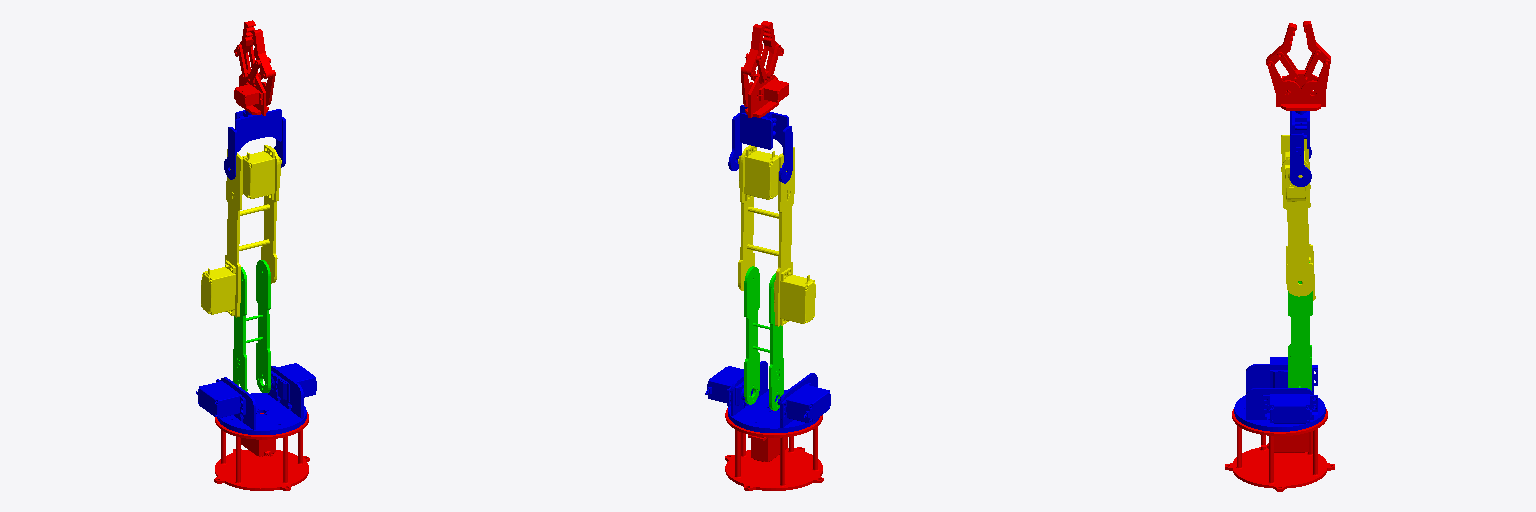
URDF robot description (Seguidor_linea_robot):
<?xml version="1.0" encoding="utf-8"?>
<!-- Este URDF fue creado automáticamente por SolidWorks para el exportador URDF.
     Originalmente creado por Stephen Brawner (brawner@gmail.com)
     Versión de commit: 1.5.1-0-g916b5db  Versión de compilación: 1.5.7152.31018
     Para más información, visita: http://wiki.ros.org/sw_urdf_exporter -->
<robot name="Seguidor_linea_robot">
    <!-- Elemento raíz que define el robot, nombrado "Seguidor_linea_robot" -->

    <link name="world"/>
    <!-- Define el link del mundo, que sirve como referencia global para el robot -->

    <link name="base_link">
        <!-- Link principal del robot -->
        <visual>
            <geometry>
                <mesh filename="package://modelo_robot/meshes/Ensamble_1.stl"/>
                <!-- Carga un modelo 3D del link desde un archivo STL -->
            </geometry>
            <material name="">
                <color rgba="1 0 0 1" />
                <!-- Define el color del link como rojo, opaco -->
            </material>
        </visual> 
    </link>

    <link name="Link_1">
        <!-- Primer link del robot -->
        <visual>
            <geometry>
                <mesh filename="package://modelo_robot/meshes/Ensamble_2.stl"/>
                <!-- Carga el modelo 3D del Link_1 desde un archivo STL -->
            </geometry>
            <material name="">
                <color rgba="0 0 1 1" />
                <!-- Define el color del link como azul, opaco -->
            </material>
        </visual> 
        <collision>
            <geometry>
                <mesh filename="package://modelo_robot/meshes/Ensamble_2.stl"/>
                <!-- Define la geometría para la colisión usando el mismo modelo -->
            </geometry>
        </collision>
    </link>

    <link name="Link_2">
        <!-- Segundo link del robot -->
        <visual>
            <geometry>
                <mesh filename="package://modelo_robot/meshes/Ensamble_3.stl"/>
                <!-- Carga el modelo 3D del Link_2 desde un archivo STL -->
            </geometry>
            <material name="">
                <color rgba="0 1 0 0.5" />
                <!-- Define el color del link como verde, semi-transparente -->
            </material>
        </visual>
        <collision>
            <geometry>
                <mesh filename="package://modelo_robot/meshes/Ensamble_3.stl"/>
                <!-- Define la geometría para la colisión usando el mismo modelo -->
            </geometry>
        </collision>
    </link>

    <link name="Link_3">
        <!-- Tercer link del robot -->
        <visual>
            <geometry>
                <mesh filename="package://modelo_robot/meshes/Ensamble_4.stl"/>
                <!-- Carga el modelo 3D del Link_3 desde un archivo STL -->
            </geometry>
            <material name="">
                <color rgba="1 1 0 0.5" />
                <!-- Define el color del link como verde, semi-transparente -->
            </material>
        </visual>
        <collision>
            <geometry>
                <mesh filename="package://modelo_robot/meshes/Ensamble_4.stl"/>
                <!-- Define la geometría para la colisión usando el mismo modelo -->
            </geometry>
        </collision>
    </link>

    <link name="Link_4">
            <!-- Cuarto link del robot -->
        <visual>
            <geometry>
                <mesh filename="package://modelo_robot/meshes/Ensamble_5.stl"/>
                <!-- Carga el modelo 3D del Link_4 desde un archivo STL -->
            </geometry>
            <material name="">
                <color rgba="0 0 1 1" />
                <!-- Define el color del link como verde, semi-transparente -->
            </material>
        </visual>
        <collision>
            <geometry>
                <mesh filename="package://modelo_robot/meshes/Ensamble_6_Pinza.stl"/>
                <!-- Define la geometría para la colisión usando el mismo modelo -->
            </geometry>
        </collision>
    </link>

        <link name="Gripper">
            <!-- Cuarto link del robot -->
        <visual>
            <geometry>
                <mesh filename="package://modelo_robot/meshes/Ensamble_6_Pinza.stl"/>
                <!-- Carga el modelo 3D del Link_4 desde un archivo STL -->
            </geometry>
            <material name="">
                <color rgba="1 0 0 1" />
                <!-- Define el color del link como rojo, opaco -->
            </material>
        </visual>
        <collision>
            <geometry>
                <mesh filename="package://modelo_robot/meshes/Ensamble_5.stl"/>
                <!-- Define la geometría para la colisión usando el mismo modelo -->
            </geometry>
        </collision>
    </link>

    <joint name="fixed" type="fixed">
        <!-- Joint que conecta el mundo con el base_link, sin movimiento -->
        <parent link="world"/>
        <child link="base_link"/>
        <origin xyz="0 0 -20" rpy="0 0 0"/>
        <!-- Define la posición del joint en coordenadas (x, y, z) y orientación (roll, pitch, yaw) -->
        <axis xyz="0 0 1" />
        <!-- El eje de rotación es el eje Z -->
    </joint>

    <joint name="Eslabon_Base" type="revolute">
        <!-- Joint que permite el movimiento entre base_link y Link_1 -->
        <parent link="base_link"/>
        <child link="Link_1"/>
        <origin xyz="0 0 20" rpy="0 0 0"/>
        <!-- Define la posición del joint -->
        <axis xyz="0 0 1"/>
        <!-- El eje de rotación es el eje Z -->
        <!-- Este link tiene su eje en Z y va desde -90 a 90 grados -->
        <limit lower="-1.57" upper="1.57" effort="0" velocity="0.5"/>
        <!-- Define los límites de rotación, esfuerzo y velocidad del joint -->
    </joint>

    <joint name="Eslabon_1" type="revolute">
        <!-- Joint que permite el movimiento entre Link_1 y Link_2 -->
        <parent link="Link_1"/>
        <child link="Link_2"/>
        <origin xyz="13.5 20 28" rpy="0 0 0"/> 
        <!-- Define la posición del joint -->
        <axis xyz="1 0 0"/>
        <!-- El eje de rotación es el eje X -->
        <!-- Este link tiene su eje en X y va desde 90 a 270 grados -->
        <limit lower="1.57" upper="4.71" effort="0" velocity="0.5"/>
        <!-- Define los límites de rotación, esfuerzo y velocidad del joint -->
    </joint>

    <joint name="Eslabon_2" type="revolute">
        <!-- Joint que permite el movimiento entre Link_2 y Link_3 -->
        <parent link="Link_2"/>
        <child link="Link_3"/>
        <origin xyz="5 0 -125" rpy="0 0 0"/> 
        <!-- Define la posición del joint -->
        <axis xyz="1 0 0"/>
        <!-- El eje de rotación es el eje X -->
        <!-- Este link tiene su eje en X y va desde 9180 grados hasta 360 grados -->
        <limit lower="3.14" upper="6.28" effort="0" velocity="0.5"/>        
        <!-- Define los límites de rotación, esfuerzo y velocidad del joint -->
    </joint>

        <joint name="Eslabon_3" type="revolute">
        <!-- Joint que permite el movimiento entre Link_2 y Link_3 -->
        <parent link="Link_3"/>
        <child link="Link_4"/>
        <origin xyz="-60 122 0" rpy="0 0 0"/> 
        <!-- Define la posición del joint -->
        <axis xyz="1 0 0"/>
        <!-- El eje de rotación es el eje X -->
        <!-- Este link tiene su eje en X y va desde 9180 grados hasta 360 grados -->
        <limit lower="3.14" upper="6.28" effort="0" velocity="0.5"/>    
        <!-- Define los límites de rotación, esfuerzo y velocidad del joint -->
    </joint>

        <joint name="Gripper_end" type="revolute">
        <!-- Joint que permite el movimiento entre Link_2 y Link_3 -->
        <parent link="Link_4"/>
        <child link="Gripper"/>
        <origin xyz="43 0 63" rpy="0 0 0"/> 
        <!-- Define la posición del joint -->
        <axis xyz="0 0 1"/>
        <!-- El eje de rotación es el eje X -->
        <!-- Este link tiene su eje en X y va desde 9180 grados hasta 360 grados -->
        <limit lower="3.14" upper="6.28" effort="0" velocity="0.5"/>    
        <!-- Define los límites de rotación, esfuerzo y velocidad del joint -->
    </joint>
  
</robot>

--- Facts derived from the render (not from the file) ---
Views: 3 orthographic renders of the robot side by side, from view 1: azimuth 30°, elevation 25°; view 2: azimuth 150°, elevation 25°; view 3: azimuth 270°, elevation 25°.
Model Seguidor_linea_robot with 7 links and 6 joints (5 revolute, 1 fixed), rooted at world, posed all joints at 0 but 4 set to mid-range because 0 is outside their limits (Eslabon_1 = 3.14, Eslabon_2 = 4.71, Eslabon_3 = 4.71, Gripper_end = 4.71).
Links seen in each view (by area): view 1: Link_3, Link_1, base_link, Link_2, Gripper, Link_4; view 2: Link_3, Link_1, base_link, Link_2, Gripper, Link_4; view 3: base_link, Link_1, Link_3, Gripper, Link_2, Link_4.
Boxes of the visible links, bbox=[...] form: Link_3: bbox=[201, 145, 281, 317]; Link_1: bbox=[196, 363, 316, 434]; base_link: bbox=[214, 412, 309, 490]; Link_2: bbox=[233, 260, 270, 392]; Gripper: bbox=[234, 20, 275, 115]; Link_4: bbox=[224, 109, 285, 179]; Link_3: bbox=[738, 145, 815, 326]; Link_1: bbox=[705, 361, 830, 432]; base_link: bbox=[725, 408, 823, 490]; Link_2: bbox=[744, 266, 783, 410]; Gripper: bbox=[741, 21, 788, 117]; Link_4: bbox=[728, 105, 792, 183]; base_link: bbox=[1225, 409, 1334, 491]; Link_1: bbox=[1234, 357, 1325, 431]; Link_3: bbox=[1281, 135, 1315, 300]; Gripper: bbox=[1266, 21, 1330, 110]; Link_2: bbox=[1288, 262, 1312, 390]; Link_4: bbox=[1290, 111, 1311, 186].
Size in the robot's own frame: 117 by 109 by 492 metres.
6 mesh visuals loaded from 6 distinct referenced files (6 binary STL).
